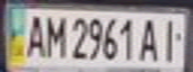1: (115, 15, 139, 62)
2: (66, 12, 90, 61)
6: (103, 15, 121, 61)
9: (84, 14, 106, 61)
A: (21, 11, 48, 58), (136, 16, 163, 62)
I: (157, 16, 184, 62)
M: (42, 11, 66, 60)
